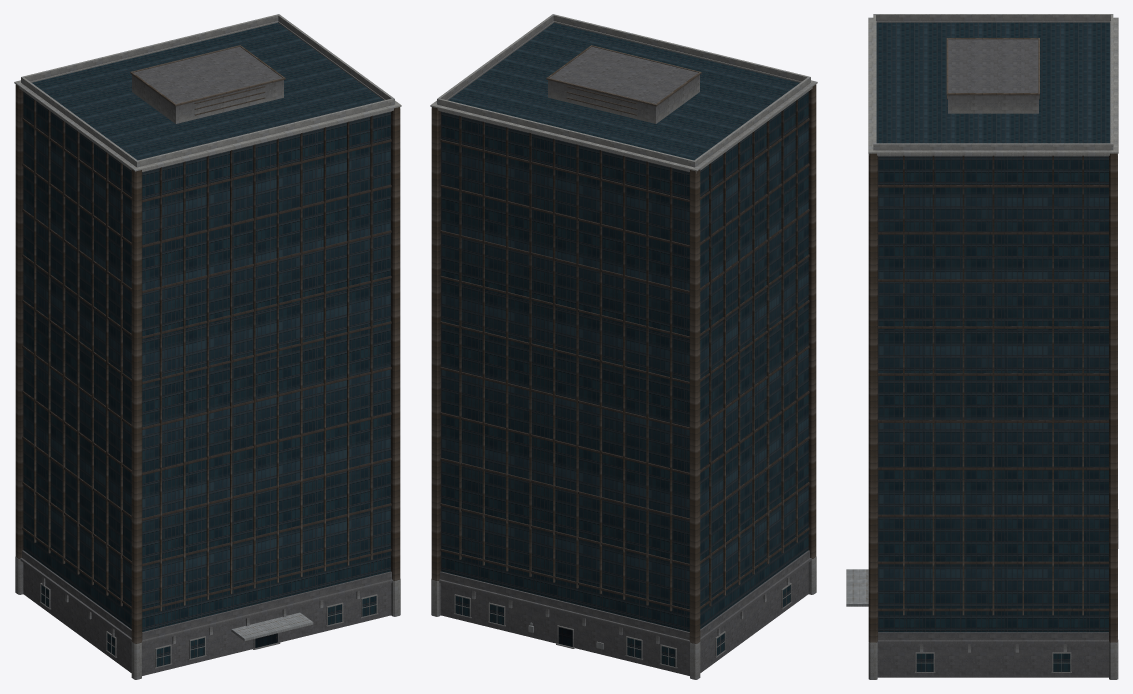
Rendered from midtown-office-tower_lod0.gltf.
3 views of the same model, side by side, from view 1: azimuth 30°, elevation 25°; view 2: azimuth 150°, elevation 25°; view 3: azimuth 270°, elevation 25° (orthographic). The views are drawn at different scales.
Visible parts, largest first — view 1: midtown-office-tower_upper, midtown-office-tower__v4_metal_detail, midtown-office-tower__v4_stone_detail, midtown-office-tower_base, midtown-office-tower_fen_07-glass-curtain-blue_3, midtown-office-tower__canopy, midtown-office-tower_fen_06-granite_0; view 2: midtown-office-tower_upper, midtown-office-tower__v4_metal_detail, midtown-office-tower__v4_stone_detail, midtown-office-tower_base, midtown-office-tower_fen_07-glass-curtain-blue_3, midtown-office-tower_fen_06-granite_0; view 3: midtown-office-tower_upper, midtown-office-tower__v4_metal_detail, midtown-office-tower__v4_stone_detail, midtown-office-tower_base, midtown-office-tower__canopy, midtown-office-tower_fen_07-glass-curtain-blue_3.
Part boxes in pixels (x1,y1,x2,y2): midtown-office-tower_upper: (23, 23, 390, 631); midtown-office-tower__v4_metal_detail: (15, 45, 400, 643); midtown-office-tower__v4_stone_detail: (14, 14, 401, 679); midtown-office-tower_base: (23, 563, 391, 675); midtown-office-tower_fen_07-glass-curtain-blue_3: (41, 585, 376, 666); midtown-office-tower__canopy: (231, 612, 313, 641); midtown-office-tower_fen_06-granite_0: (39, 583, 378, 668); midtown-office-tower_upper: (441, 22, 808, 631); midtown-office-tower__v4_metal_detail: (431, 45, 816, 643); midtown-office-tower__v4_stone_detail: (430, 14, 817, 679); midtown-office-tower_base: (440, 563, 808, 675); midtown-office-tower_fen_07-glass-curtain-blue_3: (455, 585, 790, 666); midtown-office-tower_fen_06-granite_0: (453, 583, 792, 668); midtown-office-tower_upper: (876, 22, 1110, 632); midtown-office-tower__v4_metal_detail: (868, 38, 1117, 642); midtown-office-tower__v4_stone_detail: (868, 14, 1118, 679); midtown-office-tower_base: (877, 644, 1108, 677); midtown-office-tower__canopy: (846, 569, 868, 606); midtown-office-tower_fen_07-glass-curtain-blue_3: (916, 653, 1070, 671).
Size of the model in its own units: 46.6 by 88.32 by 39.8.
